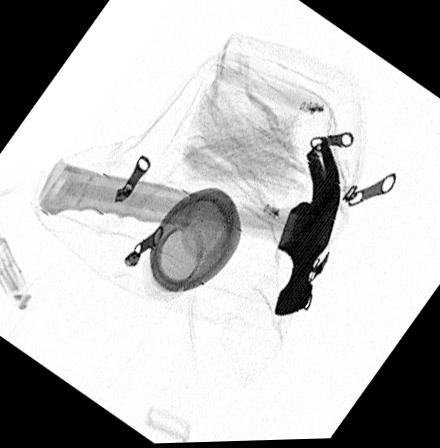Hammer: (36, 138, 340, 319)
